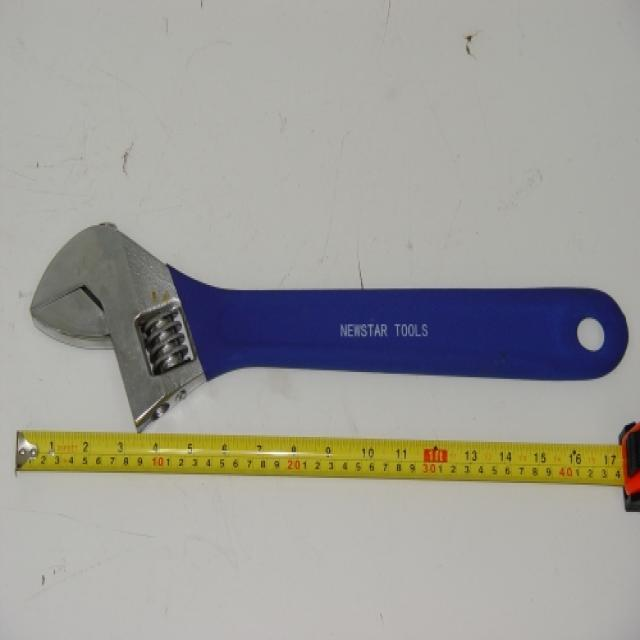wrench: (23, 213, 632, 436)
